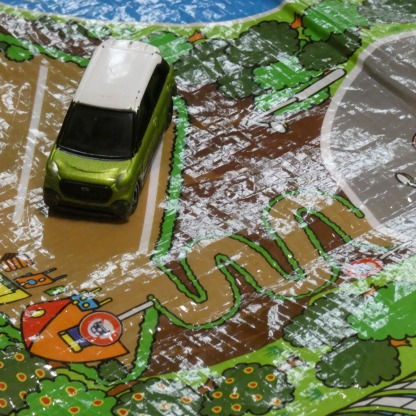car: (42, 36, 176, 218)
